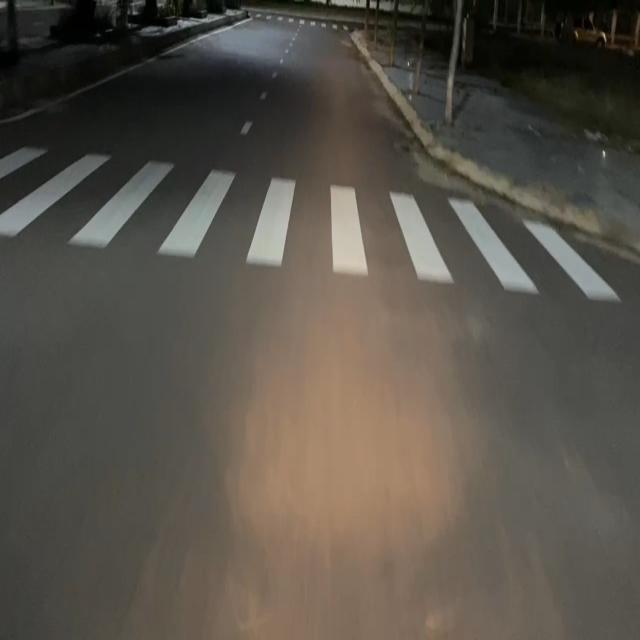walk-crossing: (0, 141, 622, 305)
